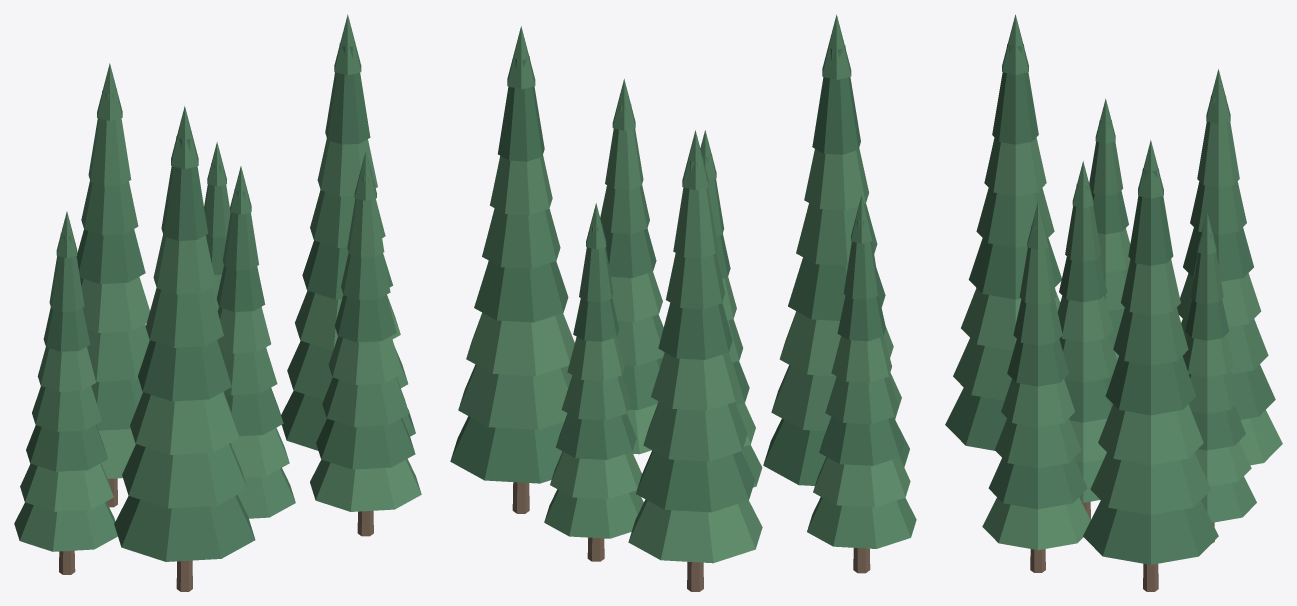
File: sugi_grove_cluster.glb
3 views of the same model, side by side, from view 1: azimuth 30°, elevation 25°; view 2: azimuth 150°, elevation 25°; view 3: azimuth 270°, elevation 25° (orthographic). The views are drawn at different scales.
Visible parts, largest first — view 1: sugi_grove_cluster; view 2: sugi_grove_cluster; view 3: sugi_grove_cluster.
Part boxes in pixels (x1,y1,x2,y2): sugi_grove_cluster: [14, 14, 421, 591]; sugi_grove_cluster: [450, 14, 916, 591]; sugi_grove_cluster: [945, 14, 1282, 591].
Size of the model in its own units: 20.35 by 22.77 by 14.98.
